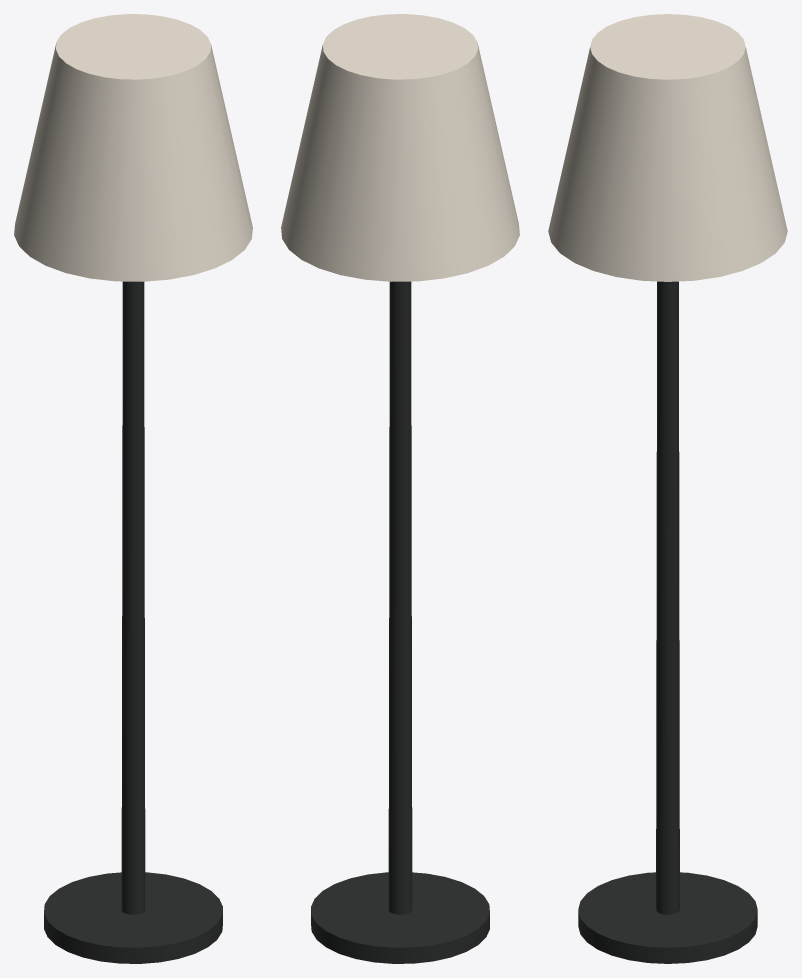
The model's file is floor-lamp.glb.
3 renders of one model, left to right at view 1: azimuth 30°, elevation 25°; view 2: azimuth 150°, elevation 25°; view 3: azimuth 270°, elevation 25°, orthographic.
Visible parts, largest first — view 1: shade, frame_stem, frame_base; view 2: shade, frame_stem, frame_base; view 3: shade, frame_stem, frame_base.
Boxes of the visible parts, left/top/right/bottom form: shade: left=14, top=14, right=252, bottom=281; frame_stem: left=121, top=281, right=145, bottom=914; frame_base: left=44, top=872, right=222, bottom=963; shade: left=281, top=14, right=519, bottom=281; frame_stem: left=388, top=281, right=412, bottom=914; frame_base: left=311, top=872, right=489, bottom=963; shade: left=548, top=14, right=787, bottom=281; frame_stem: left=656, top=281, right=679, bottom=914; frame_base: left=578, top=872, right=757, bottom=963.
Size of the model in its own units: 0.4074 by 1.65 by 0.4074.
